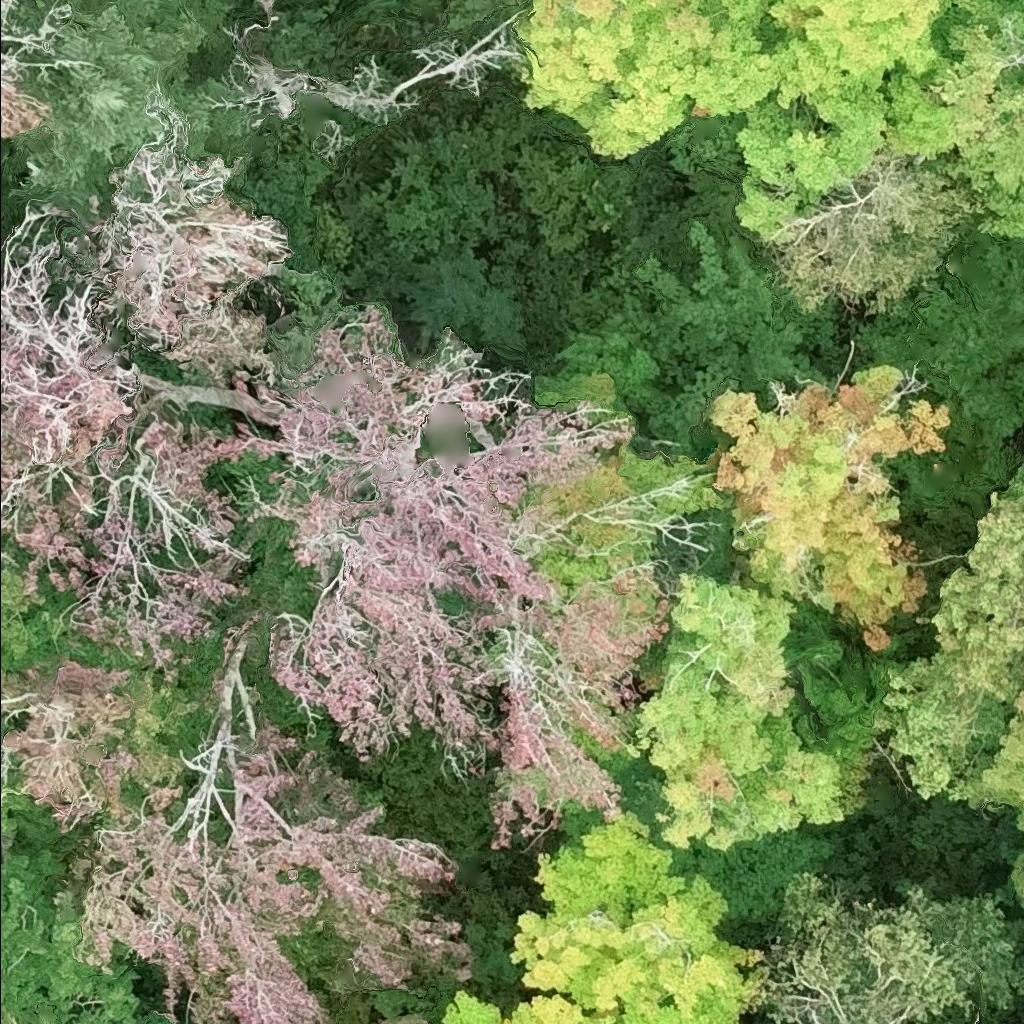crown: (451, 827, 763, 1023), (752, 864, 1017, 1023)
